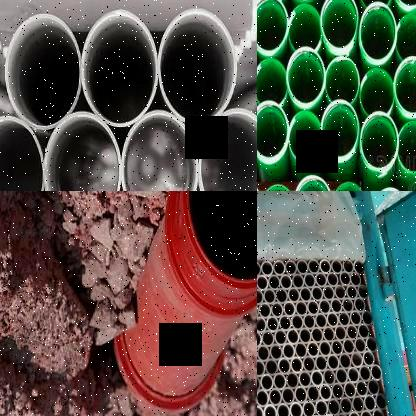pipe: (81, 10, 158, 127), (160, 9, 236, 126), (5, 13, 80, 129), (185, 191, 257, 286), (122, 109, 198, 191), (42, 112, 120, 191), (198, 107, 257, 191), (0, 116, 43, 191), (320, 99, 360, 158), (286, 46, 326, 105), (359, 2, 397, 63), (361, 111, 399, 170), (257, 100, 289, 159), (320, 0, 358, 48), (288, 110, 322, 162), (289, 3, 322, 53), (325, 57, 360, 104), (257, 0, 288, 53), (360, 68, 393, 115), (257, 58, 287, 103), (394, 56, 416, 114), (395, 13, 416, 60), (397, 121, 416, 172), (293, 174, 332, 191), (332, 181, 366, 191), (294, 385, 308, 405), (260, 373, 274, 392), (272, 372, 286, 391), (326, 353, 340, 372), (294, 341, 308, 360), (307, 384, 320, 404), (268, 388, 282, 406), (298, 370, 312, 388), (310, 370, 324, 388), (290, 356, 304, 374), (302, 356, 316, 374), (314, 354, 328, 372), (362, 350, 376, 368), (306, 340, 320, 358), (274, 328, 288, 346), (322, 325, 336, 343), (270, 301, 284, 319), (322, 284, 336, 302), (260, 260, 274, 278), (272, 259, 286, 277), (327, 397, 340, 416), (282, 342, 295, 361), (352, 394, 364, 414), (257, 388, 269, 408), (344, 380, 356, 400), (370, 364, 384, 381), (258, 302, 272, 319), (284, 258, 298, 275), (315, 398, 328, 416), (367, 378, 380, 396), (286, 372, 299, 390), (323, 368, 336, 386), (335, 367, 348, 385), (347, 366, 360, 384), (265, 358, 278, 376), (257, 344, 270, 362), (283, 300, 296, 318), (263, 288, 276, 306), (334, 284, 347, 302), (340, 396, 352, 415), (364, 394, 376, 413), (320, 383, 332, 402), (356, 379, 368, 398), (287, 327, 299, 346), (342, 338, 356, 354), (318, 298, 332, 314), (302, 399, 315, 416), (307, 258, 320, 275), (319, 258, 332, 275), (282, 387, 294, 405), (332, 382, 344, 400), (359, 364, 371, 382), (278, 357, 290, 375), (339, 352, 351, 370), (351, 350, 363, 368), (270, 344, 282, 362), (319, 340, 331, 358), (331, 338, 343, 356), (354, 336, 366, 354), (262, 330, 274, 348), (299, 327, 311, 345), (311, 326, 323, 344), (358, 322, 370, 340), (279, 315, 291, 333), (303, 312, 315, 330), (291, 312, 303, 330), (315, 312, 327, 330), (342, 296, 354, 314), (288, 286, 300, 304), (268, 274, 280, 292), (280, 273, 292, 291), (375, 394, 388, 410), (266, 316, 279, 332), (330, 298, 343, 314), (275, 288, 288, 304), (350, 310, 362, 327), (295, 300, 307, 317), (300, 286, 312, 303), (292, 273, 304, 290), (326, 271, 338, 288), (340, 270, 352, 287), (296, 259, 308, 276), (335, 324, 346, 342), (276, 402, 290, 416), (289, 402, 303, 416), (346, 324, 358, 340), (326, 312, 338, 328), (338, 311, 350, 327), (362, 310, 374, 326), (307, 300, 319, 316), (354, 297, 366, 313), (311, 286, 323, 302), (346, 284, 358, 300), (350, 270, 362, 286), (331, 258, 343, 274), (342, 258, 354, 274), (366, 336, 377, 353), (304, 272, 315, 289), (263, 403, 277, 416), (257, 274, 268, 290), (353, 259, 364, 275), (316, 272, 327, 287), (358, 284, 368, 300), (257, 316, 266, 333), (257, 359, 265, 378), (372, 408, 385, 416), (257, 288, 263, 305), (257, 330, 262, 348), (360, 409, 372, 416), (348, 410, 361, 416), (257, 405, 264, 416), (257, 260, 261, 277), (257, 374, 260, 393), (336, 412, 349, 416)
